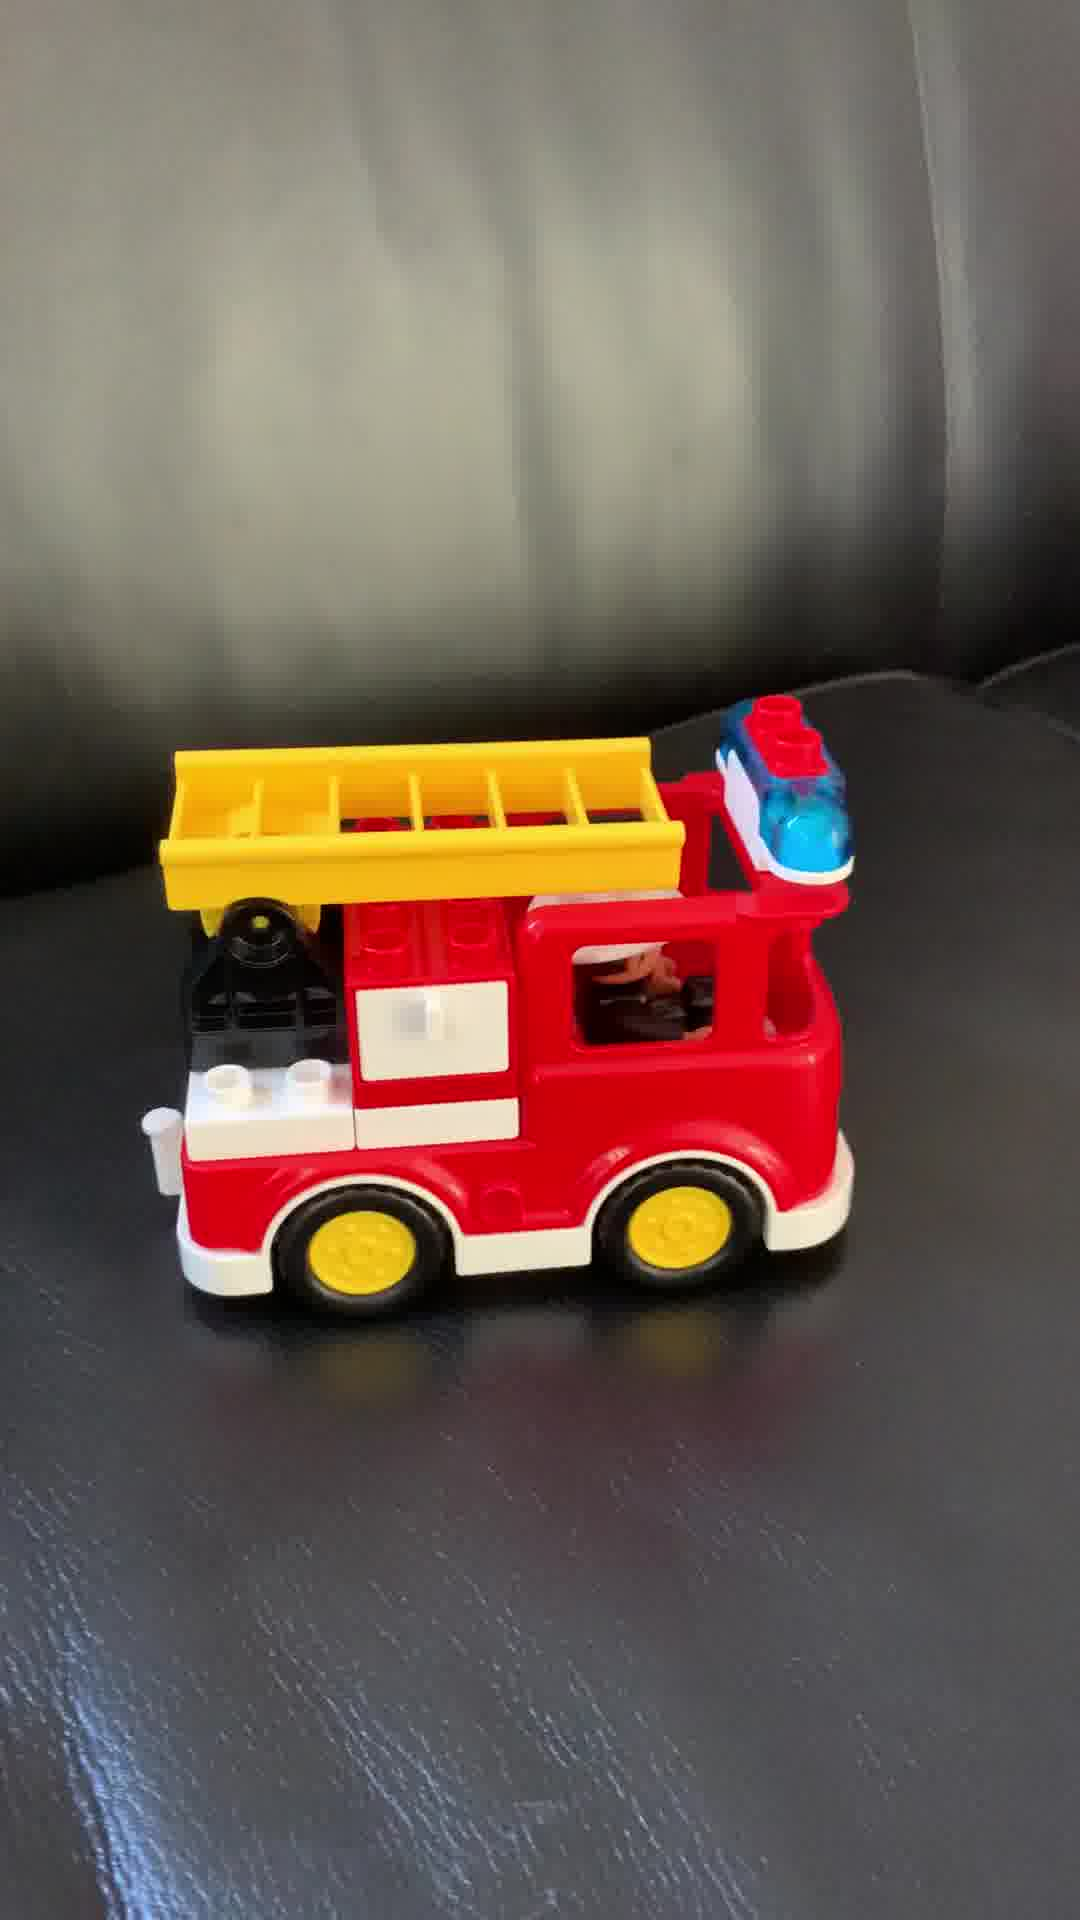lego fire truck: (144, 684, 858, 1317)
